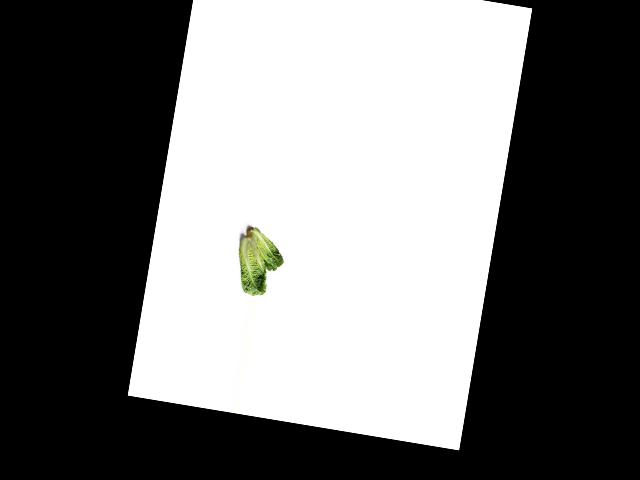lettuce: (239, 222, 289, 273)
